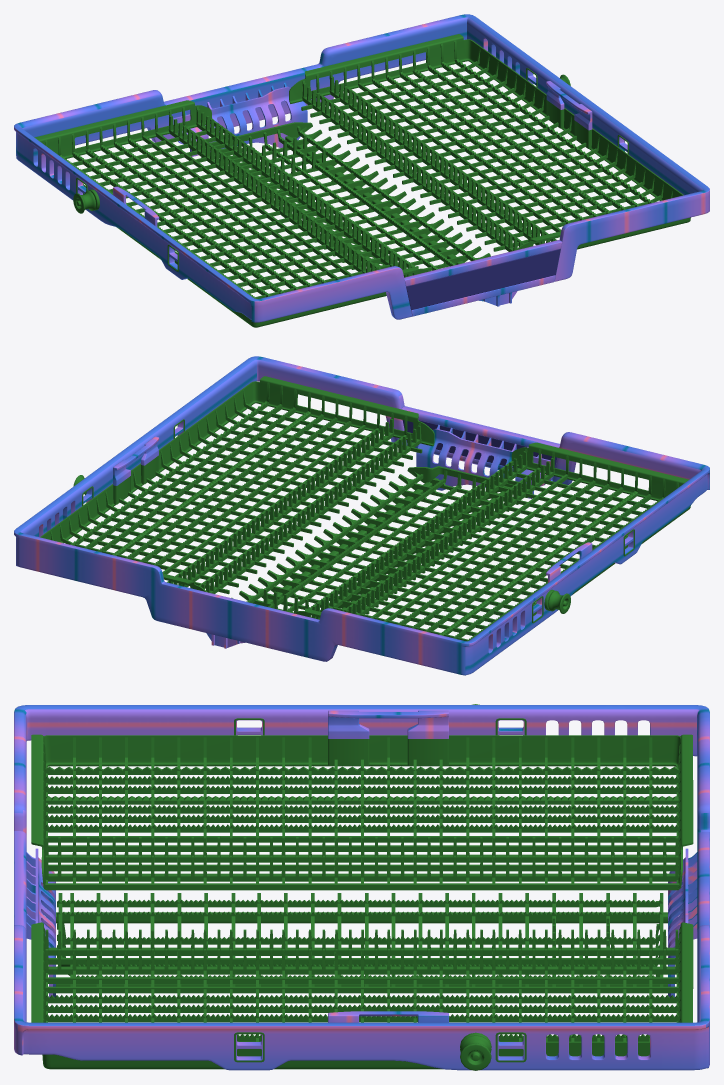
The model's file is SM_Dishwasher_Tray_03.fbx.
3 renders of one model, top to bottom at view 1: azimuth 30°, elevation 25°; view 2: azimuth 150°, elevation 25°; view 3: azimuth 270°, elevation 25°, orthographic. The views are drawn at different scales.
Parts seen in each view (by area): view 1: SM_Dishwasher_Tray_03; view 2: SM_Dishwasher_Tray_03; view 3: SM_Dishwasher_Tray_03.
Part boxes in pixels (left/top/right/bottom): SM_Dishwasher_Tray_03: left=14, top=14, right=709, bottom=327; SM_Dishwasher_Tray_03: left=14, top=356, right=709, bottom=675; SM_Dishwasher_Tray_03: left=14, top=704, right=709, bottom=1070.
Bounding box in the file's own units: 53.38 × 8.09 × 46.
4 materials, 2 textured.
